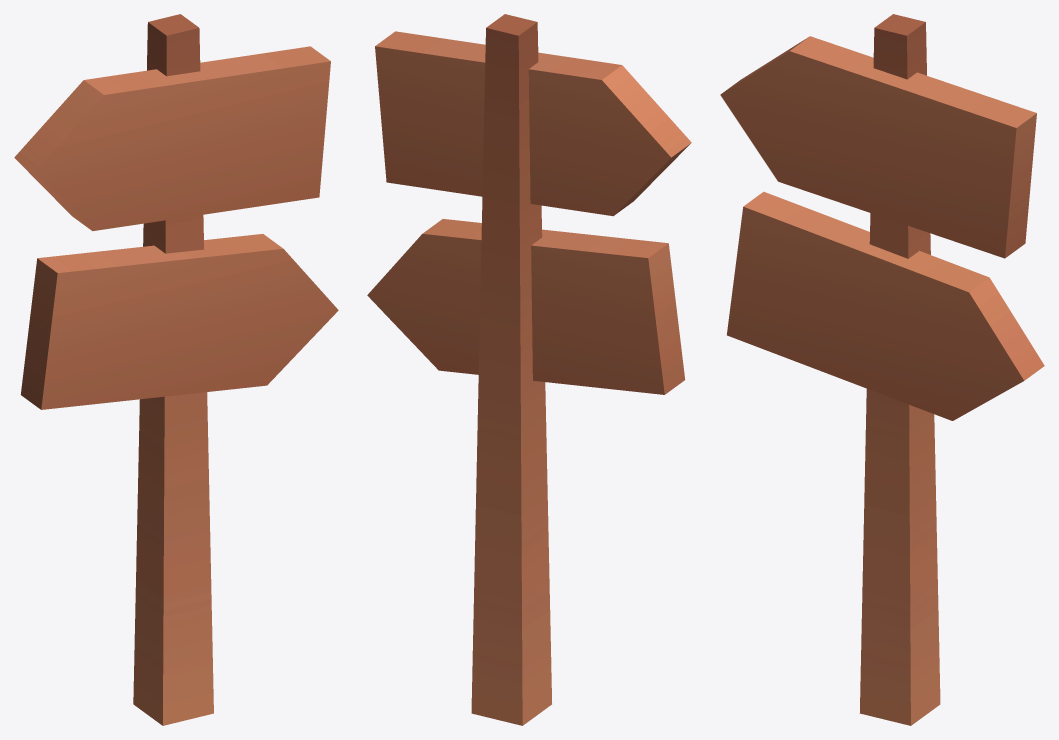
The model's file is signpost.glb.
The picture shows the model from 3 angles, left to right: view 1: azimuth 30°, elevation 25°; view 2: azimuth 150°, elevation 25°; view 3: azimuth 330°, elevation 25°; orthographic projection.
Visible parts, largest first — view 1: signpost; view 2: signpost; view 3: signpost.
Part boxes in pixels (x1=…): signpost: x1=14, y1=14, x2=338, y2=725; signpost: x1=367, y1=14, x2=691, y2=725; signpost: x1=720, y1=14, x2=1044, y2=725.
Size of the model in its own units: 0.2141 by 0.4601 by 0.043.
1 material, 1 textured.
